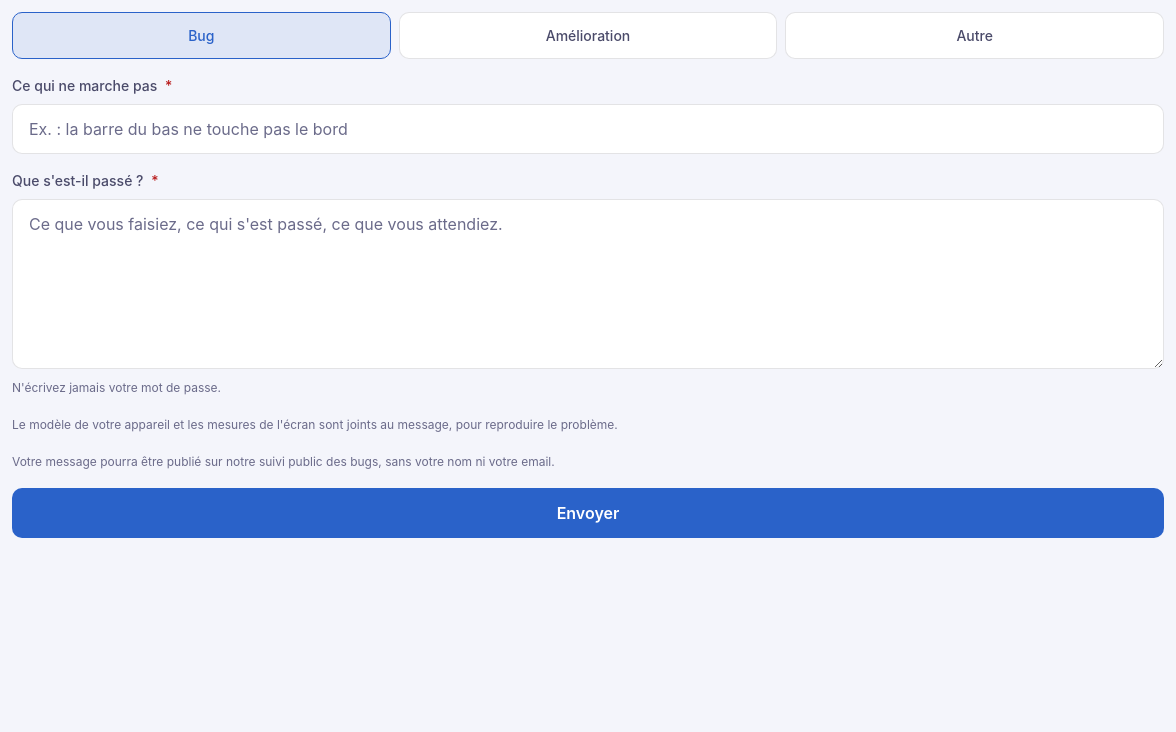
Test: SupportForm › affiche l'erreur de l'API et garde le texte saisi
This screenshot has width=1176, height=732.
Type "La navbar flotte" into the field with id "support-subject".
click(588, 129); type("La navbar flotte")  # box [12,104,1164,154]
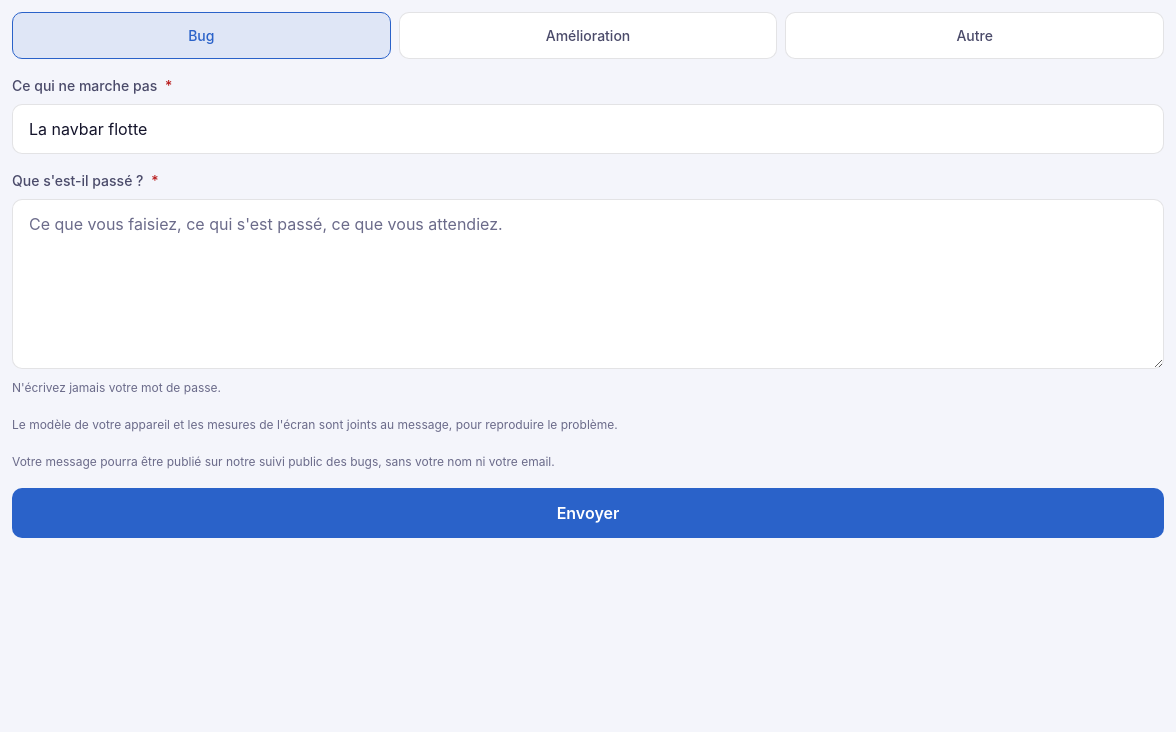
Replace the text in the text box with id "support-message" with "Une bande vide reste sous la barre du bas." at (588, 284), box [12,199,1164,369]
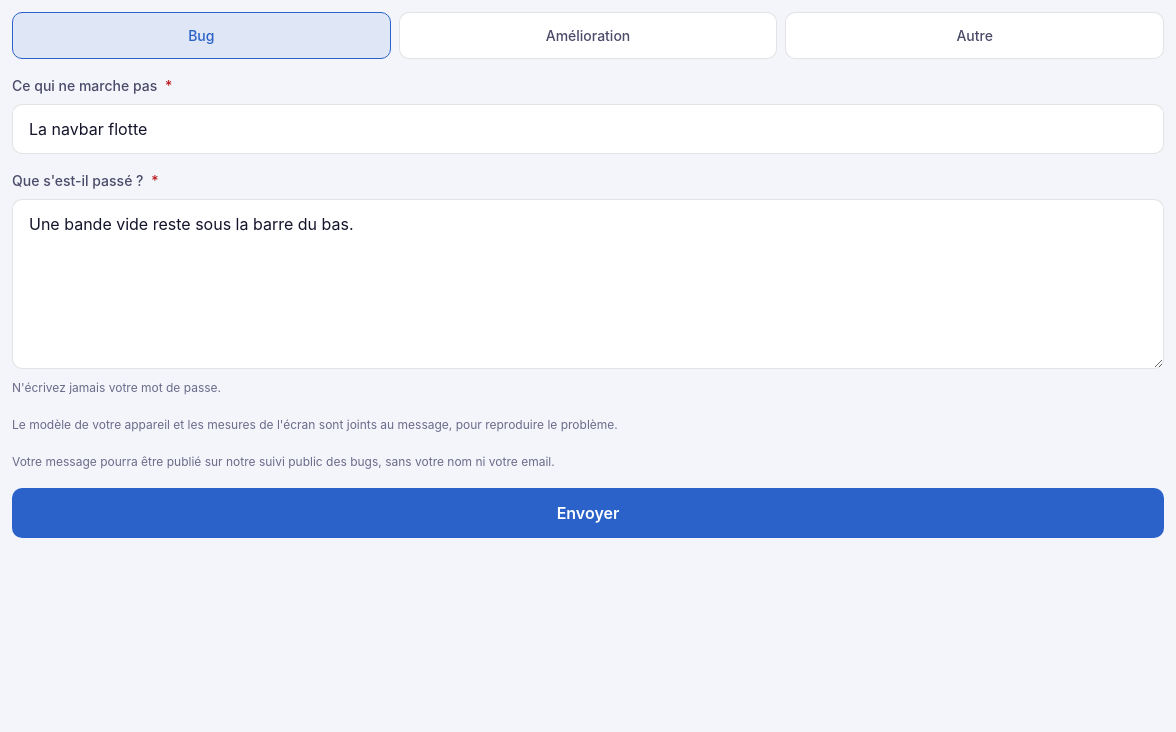
Submit the form
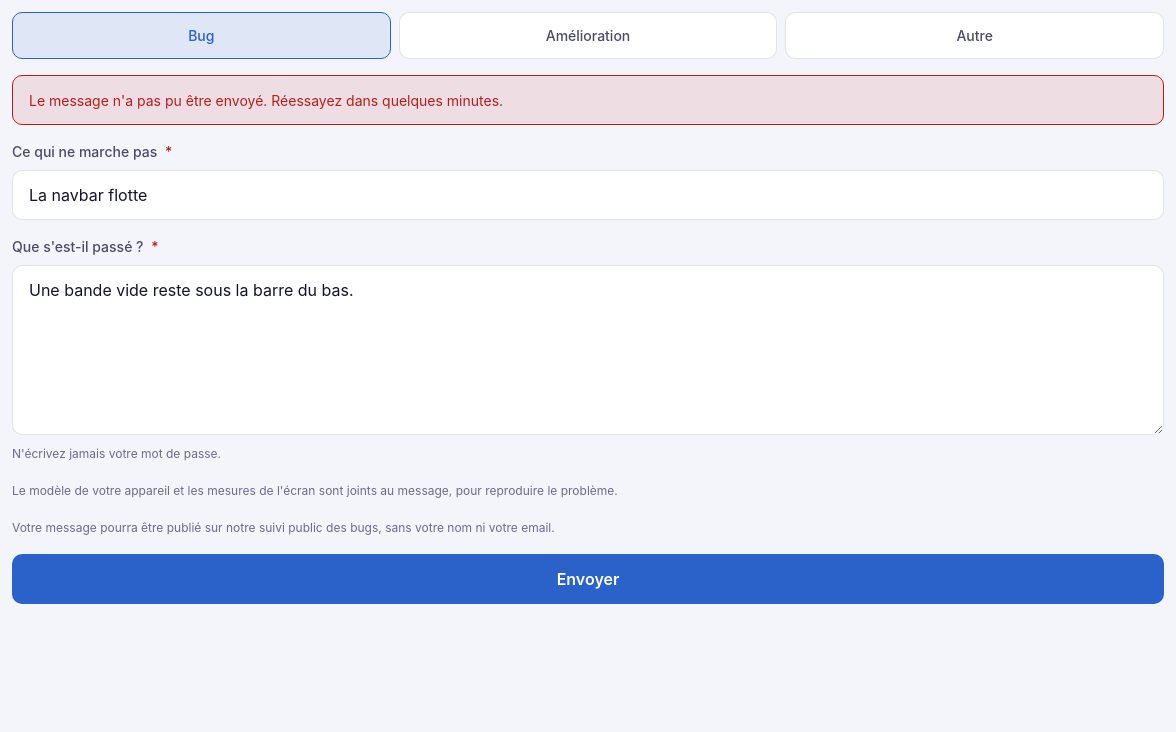
Now the form shows "n'a pas pu être envoyé", box [29,92,503,109]
